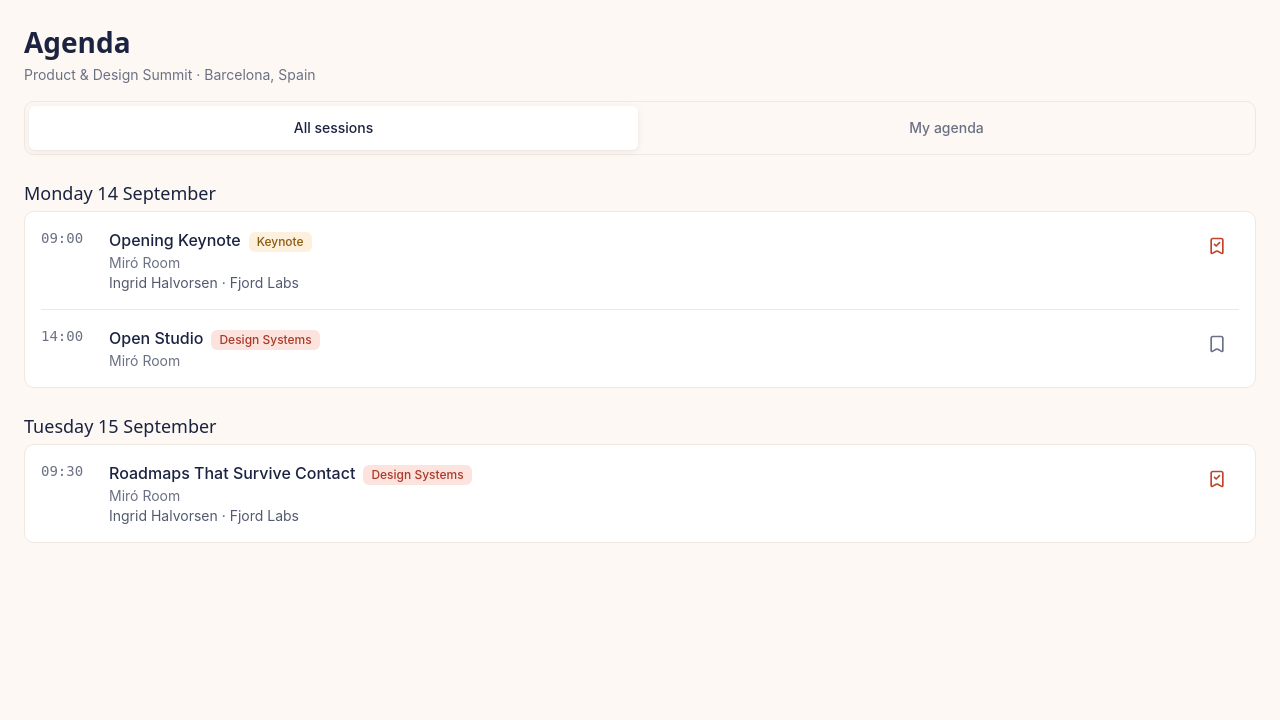
Test: the Agenda filter › shows only the saved sessions when switched (FR-194)
The image size is (1280, 720).
Expected: the link "Opening Keynote" is shown, [109,230,241,250]
Click the radio button labelled "My agenda" at (946, 128), box [909,119,984,136]
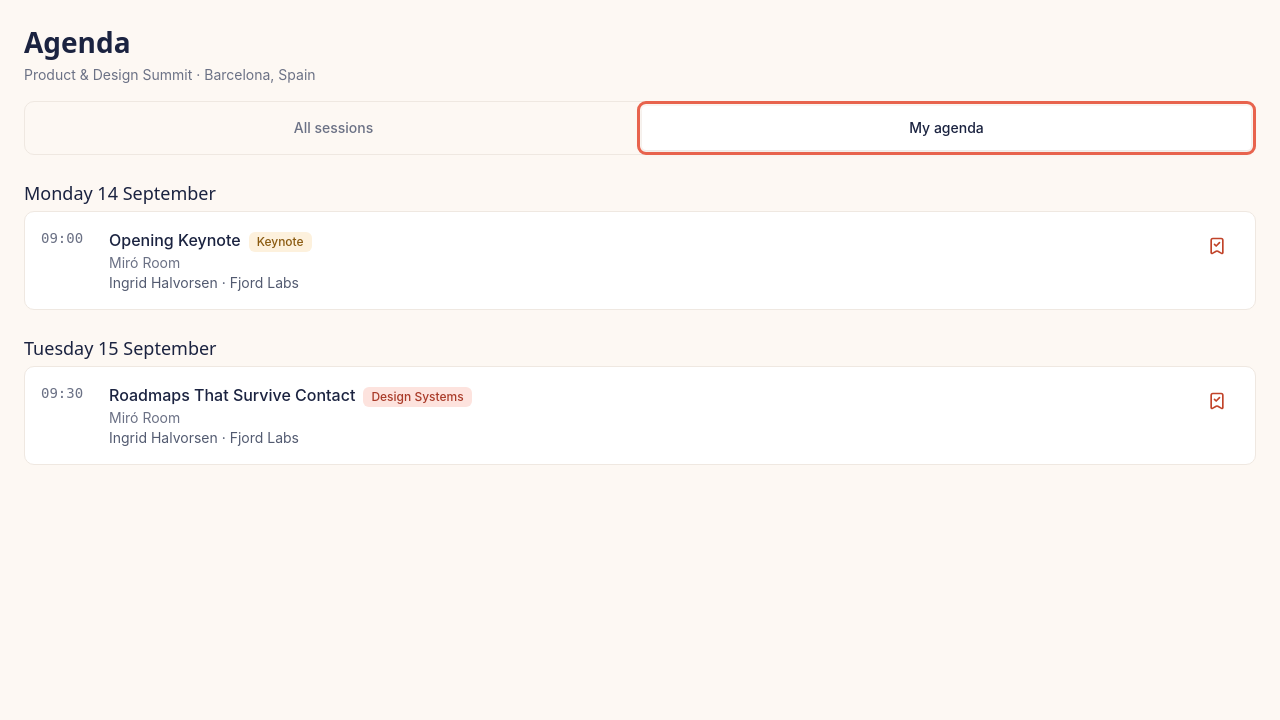
Expected: the headings read "Opening Keynote", "Roadmaps That Survive Contact", in this order, [109,228,241,253]; [109,383,355,408]
Expected: the link "Open Studio" is gone
